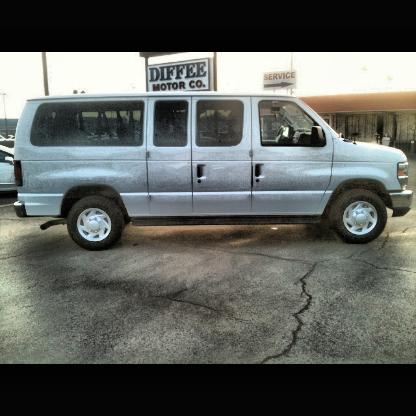Ford E-Series Wagon Van 2012: (16, 95, 415, 252)
